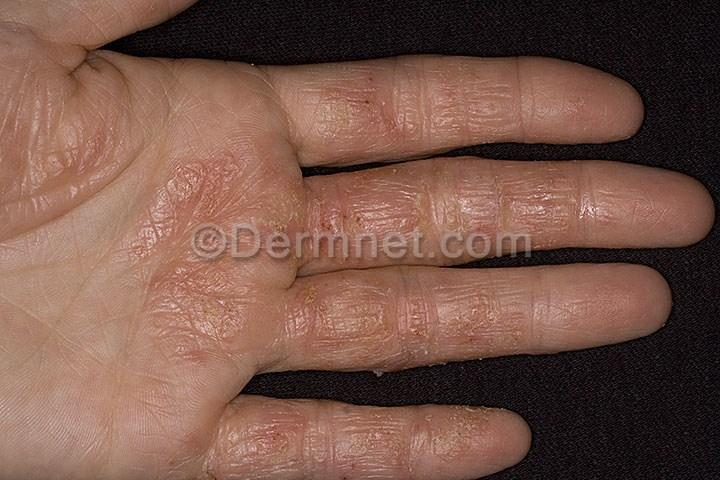Eczema: (162, 153, 300, 243), (128, 276, 226, 383), (171, 241, 272, 341), (66, 81, 156, 175), (104, 185, 173, 293), (0, 148, 71, 233), (271, 278, 329, 373), (0, 48, 59, 141), (328, 270, 383, 368), (286, 78, 357, 153), (392, 405, 463, 480), (349, 68, 413, 151), (52, 118, 114, 200), (436, 270, 494, 357), (414, 55, 464, 154), (429, 176, 493, 253), (551, 161, 607, 249), (490, 164, 550, 245), (381, 271, 434, 362), (371, 175, 427, 261), (217, 397, 276, 476), (278, 402, 339, 478), (304, 188, 369, 258), (336, 408, 397, 480), (608, 163, 659, 247), (78, 396, 144, 455), (546, 62, 588, 147), (505, 56, 546, 143), (492, 262, 530, 355), (465, 63, 508, 145), (655, 174, 697, 247), (465, 413, 509, 473), (592, 71, 620, 138)
